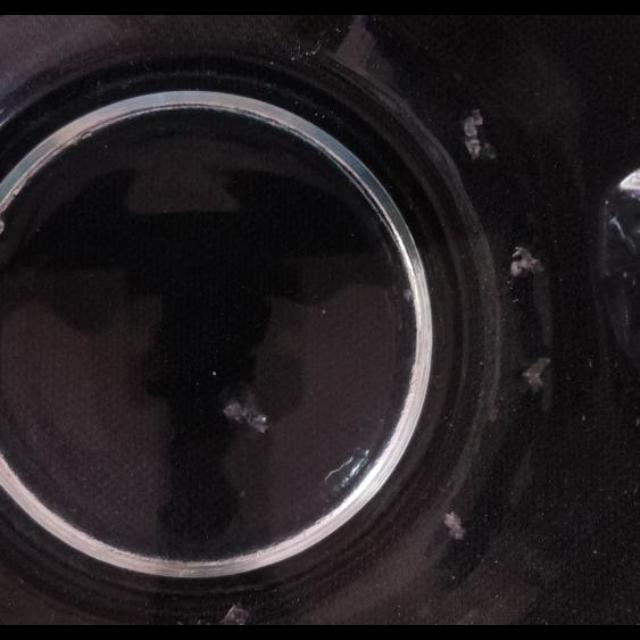Fibre: (2, 172, 34, 236), (463, 108, 497, 162), (288, 28, 330, 62), (511, 246, 544, 278), (220, 602, 250, 626), (444, 512, 466, 540), (463, 113, 483, 139), (4, 185, 22, 208), (486, 398, 500, 424), (80, 132, 94, 140)
Film: (222, 392, 270, 433)
Fragment: (522, 361, 550, 392)
microbeads: (324, 464, 348, 486), (402, 287, 414, 303), (586, 358, 594, 369), (239, 489, 247, 499), (636, 417, 640, 428), (210, 371, 216, 377)
